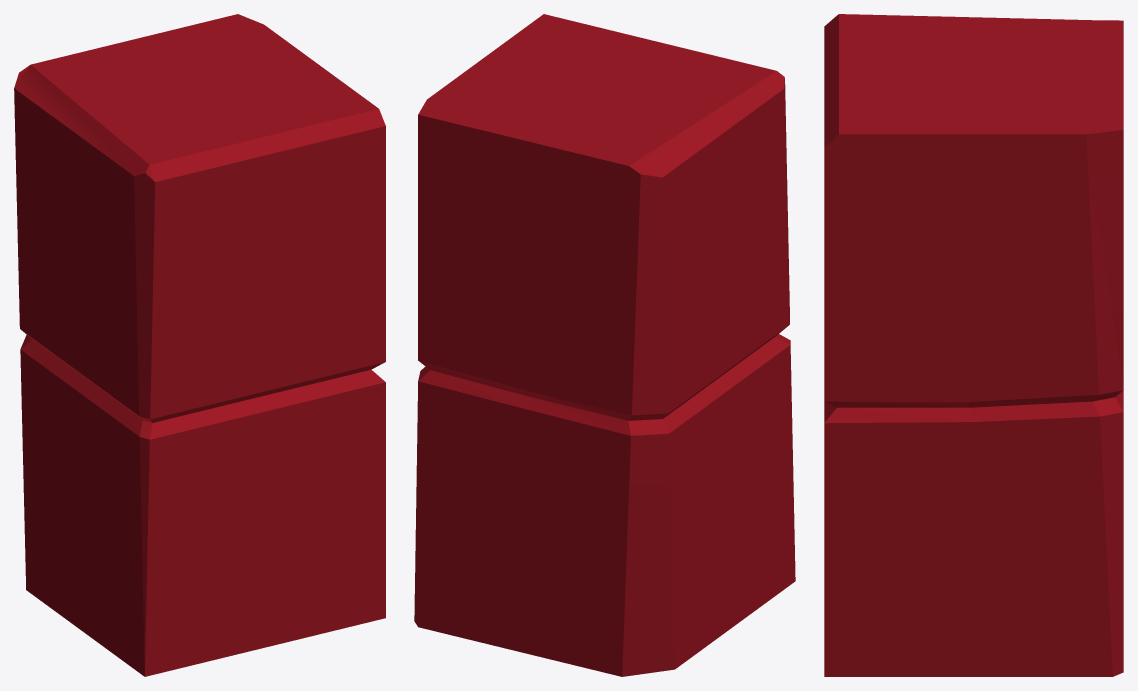
File: 3D_Wall.FBX
3 renders of one model, left to right at view 1: azimuth 30°, elevation 25°; view 2: azimuth 150°, elevation 25°; view 3: azimuth 270°, elevation 25°, orthographic. The views are drawn at different scales.
Parts seen in each view (by area): view 1: 3D_Wall; view 2: 3D_Wall; view 3: 3D_Wall.
Boxes of the visible parts, bbox=[...] form: 3D_Wall: bbox=[14, 14, 385, 676]; 3D_Wall: bbox=[414, 14, 795, 676]; 3D_Wall: bbox=[824, 14, 1123, 676].
Bounding box in the file's own units: 100 × 200 × 100.
Materials: 1 (1 with a texture image).
